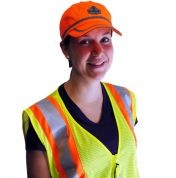person with partial safety: (25, 4, 139, 178)
safety vest: (27, 83, 138, 178)
